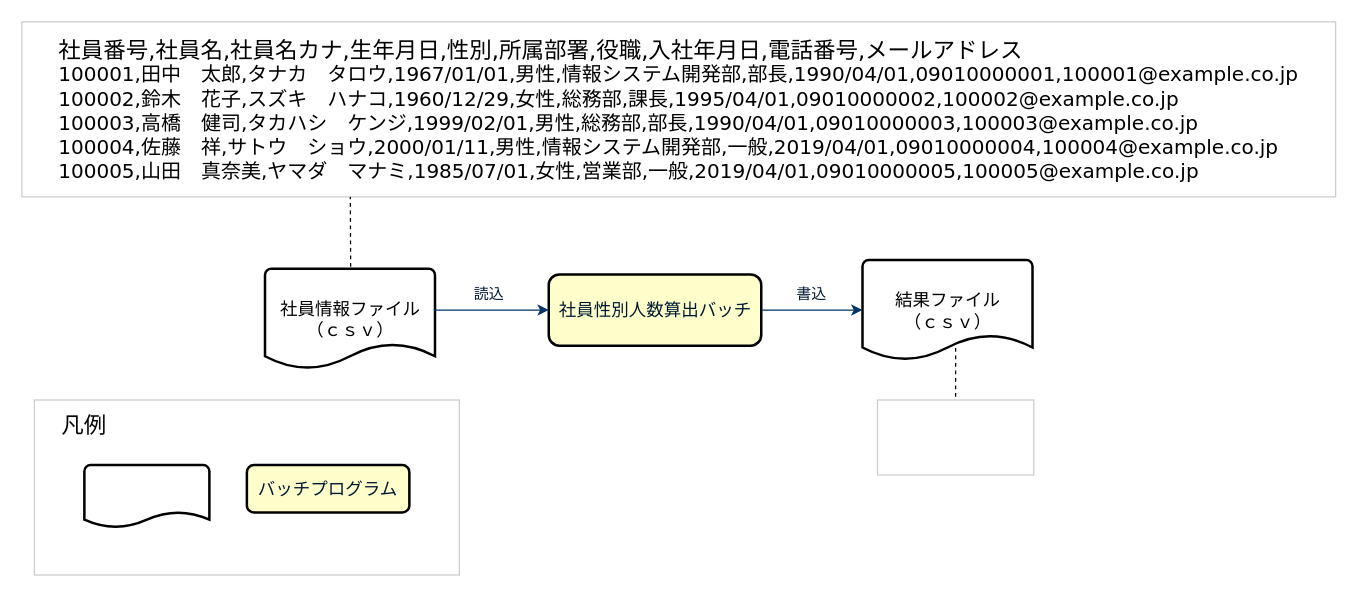
This 1358x598 diagram has some shape labels left out. Each missing label, with the centre of its shape:
ファイル: the point at 146,495
男性,女性 3,2: the point at 955,437
